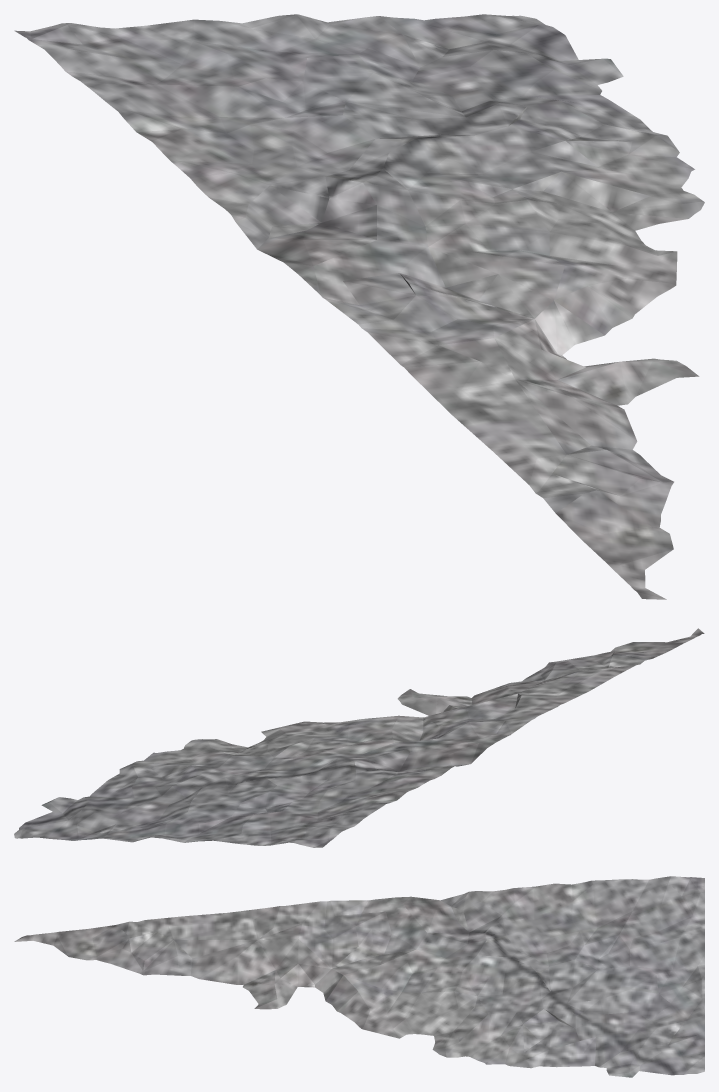
The picture shows the model from 3 angles, top to bottom: view 1: azimuth 30°, elevation 25°; view 2: azimuth 150°, elevation 25°; view 3: azimuth 270°, elevation 25°; orthographic projection. The views are drawn at different scales.
Bounding box in the file's own units: 0.3993 × 0.0806 × 0.8288.
1 material, 1 textured.
